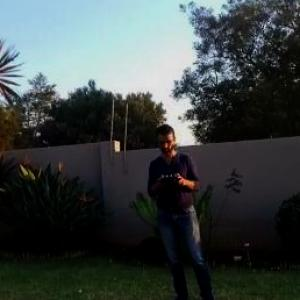follow: (144, 118, 228, 298)
